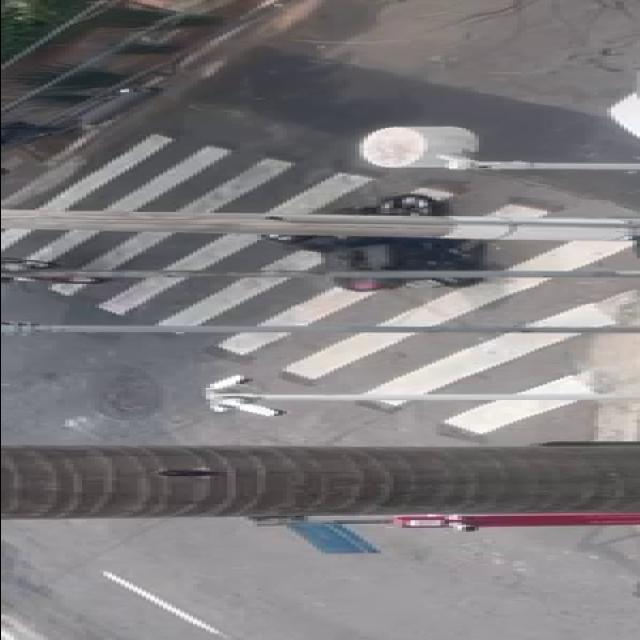bicycle: (0, 250, 104, 284)
motorbike: (252, 194, 504, 292)
